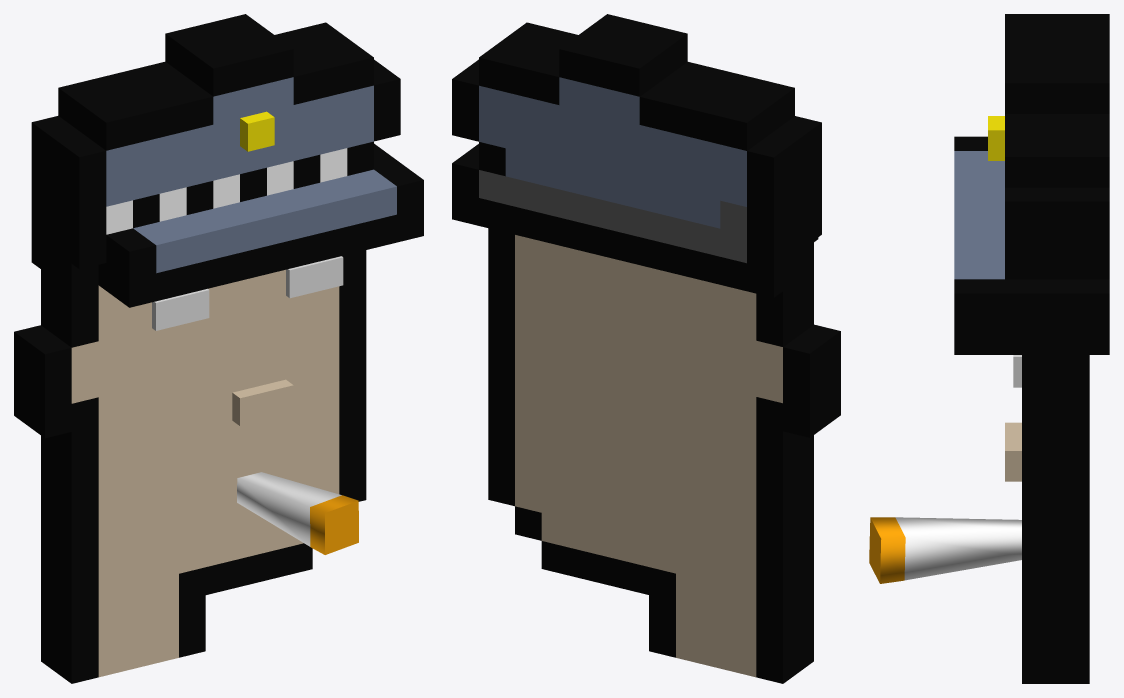
The model's file is random punk.glb.
3 views of the same model, side by side, from view 1: azimuth 30°, elevation 25°; view 2: azimuth 150°, elevation 25°; view 3: azimuth 270°, elevation 25° (orthographic). The views are drawn at different scales.
Parts seen in each view (by area): view 1: face_main, hat_cop_face (×5), back_main, blunt, hat_cop_back (×2), nose_regular_main, eyebrows_left, eyebrows_right; view 2: back_main, hat_cop_back (×2), hat_cop_face (×3), face_main; view 3: hat_cop_face (×5), back_main, face_main, blunt, hat_cop_back (×2), nose_regular_main.
Part boxes in pixels (x1,y1,x2,y2): face_main: (29, 196, 366, 683); hat_cop_face (×5): (41, 21, 423, 307); back_main: (14, 185, 56, 672); blunt: (237, 472, 358, 554); hat_cop_back (×2): (31, 14, 334, 268); nose_regular_main: (232, 379, 293, 426); eyebrows_left: (152, 288, 209, 330); eyebrows_right: (286, 256, 343, 298); back_main: (488, 196, 825, 683); hat_cop_back (×2): (452, 42, 782, 297); hat_cop_face (×3): (461, 14, 821, 239); face_main: (798, 184, 840, 672); hat_cop_face (×5): (954, 14, 1089, 354); back_main: (1055, 263, 1089, 683); face_main: (1022, 263, 1055, 683); blunt: (869, 517, 1021, 583); hat_cop_back (×2): (1089, 14, 1109, 354); nose_regular_main: (1005, 422, 1021, 481).
Bounding box in the file's own units: 13 × 21 × 7.12.
